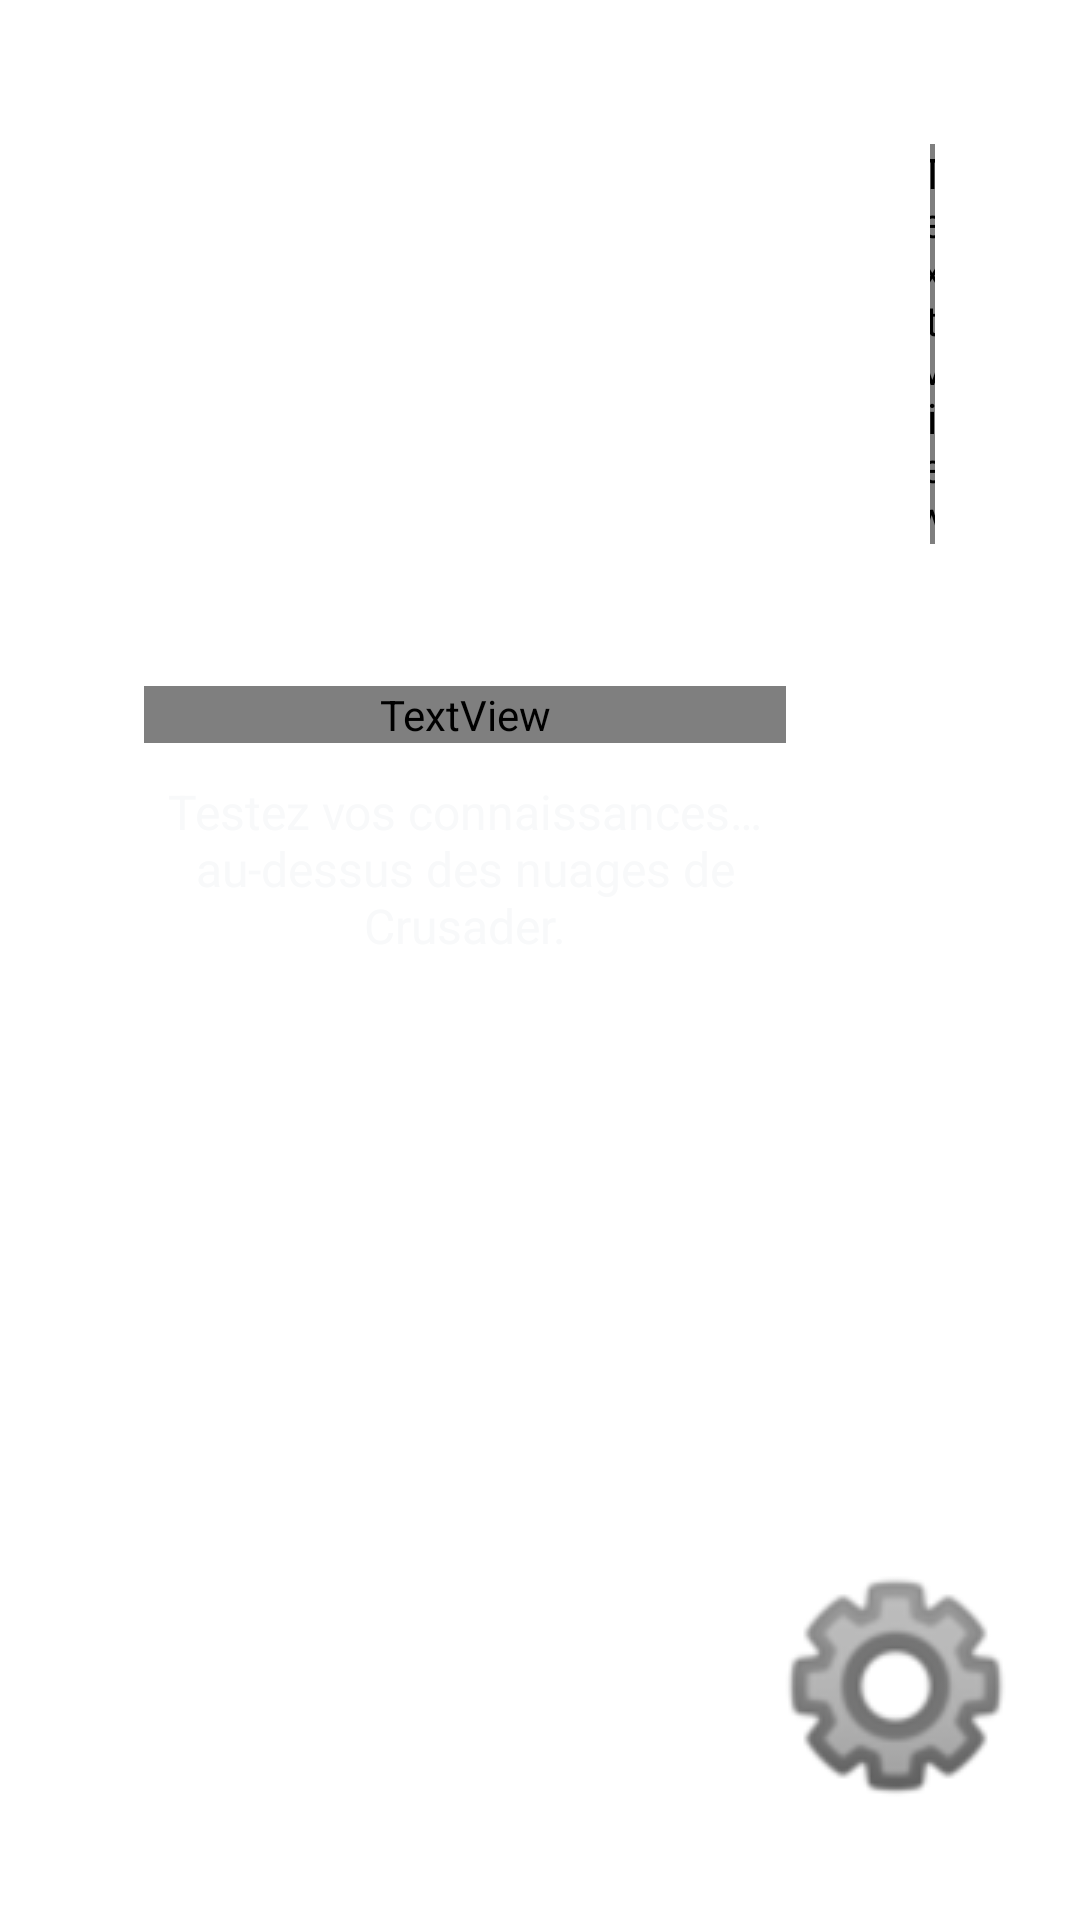

Where to tap for icons on this 1080w x 1920h app screen, as [x,y]:
parametre: [895,1686]
